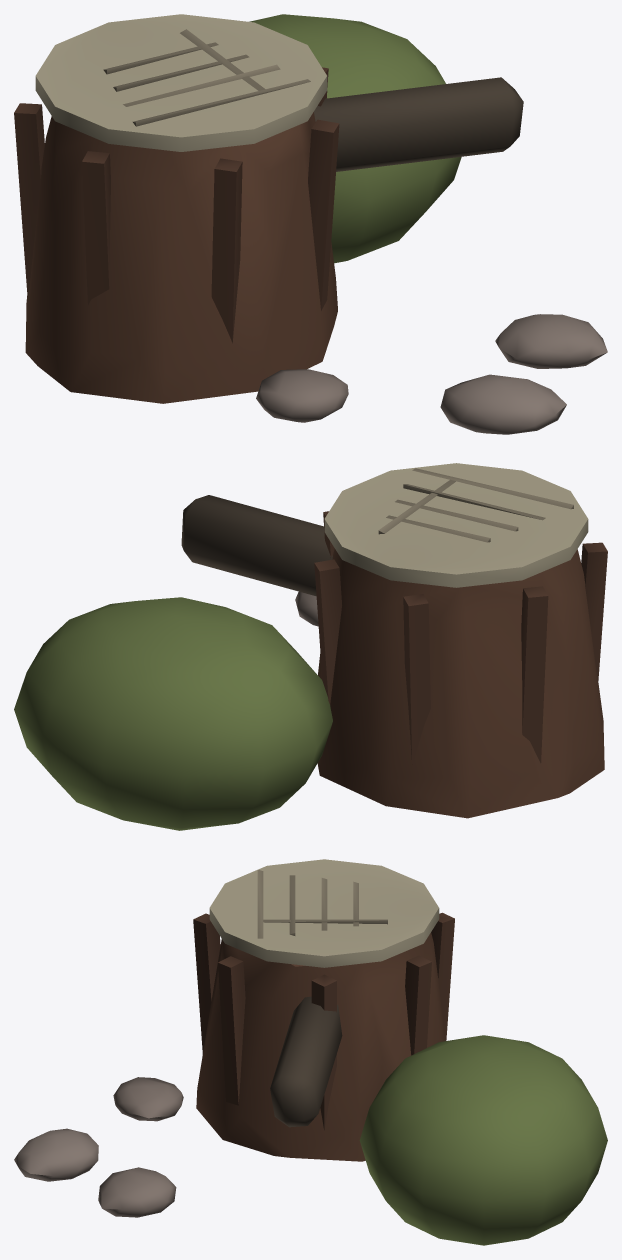
File: chart_post_c_lod1.glb
3 renders of one model, top to bottom at view 1: azimuth 30°, elevation 25°; view 2: azimuth 150°, elevation 25°; view 3: azimuth 270°, elevation 25°, orthographic. The views are drawn at different scales.
Visible parts, largest first — view 1: Surface.001; view 2: Surface.001; view 3: Surface.001.
Part boxes in pixels (bbox=[...]): Surface.001: bbox=[14, 14, 607, 434]; Surface.001: bbox=[14, 463, 607, 830]; Surface.001: bbox=[14, 859, 607, 1245].
Bounding box in the file's own units: 1.44 × 0.835 × 1.86.
